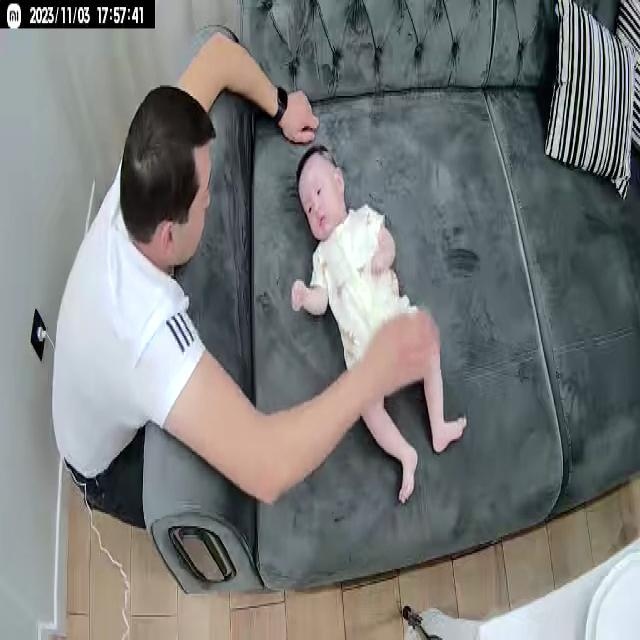baby: (291, 143, 468, 504)
